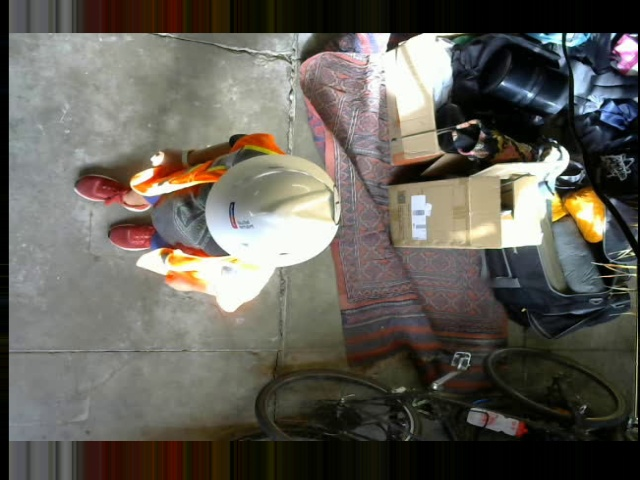one: (332, 183, 340, 223)
